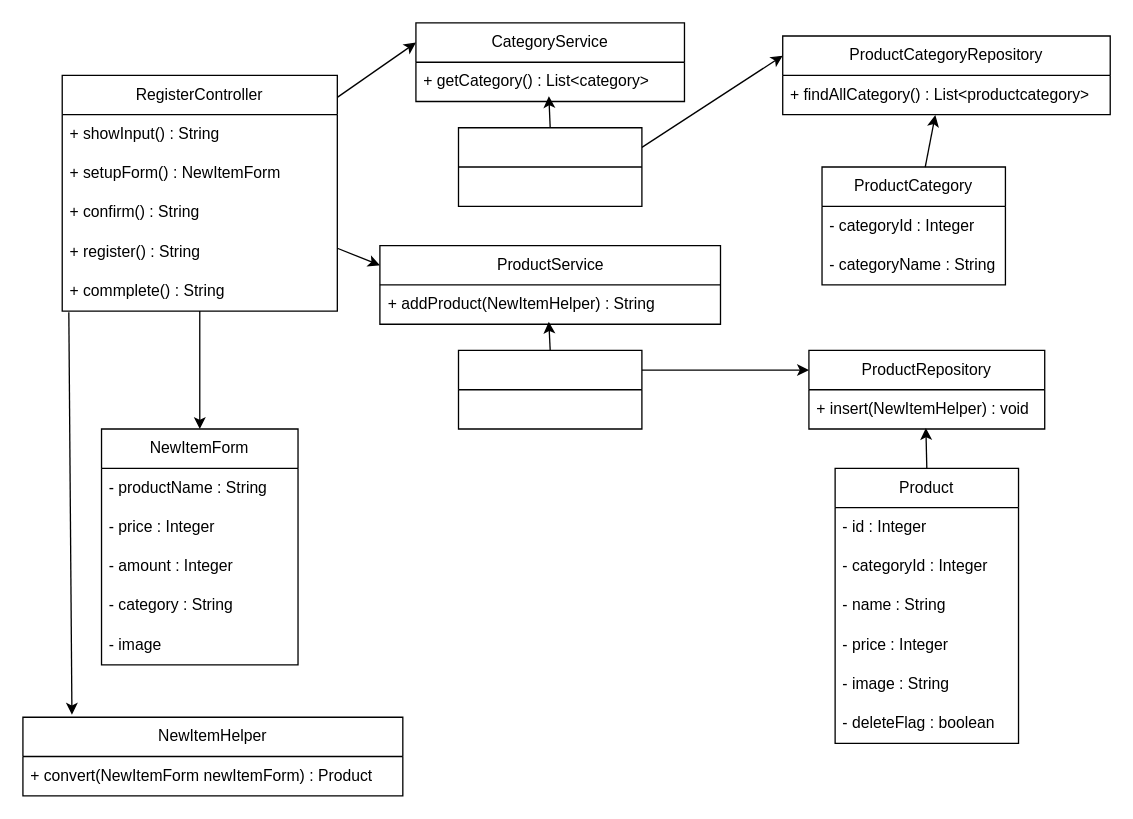
This 1133x819 diagram has some shape labels left out. Here are the shapes that lost their labels. From the top down, the centre of each, then its label:
At [549,166]: "CategoryServiceImpl".
At [549,389]: "ProductServiceImpl".
